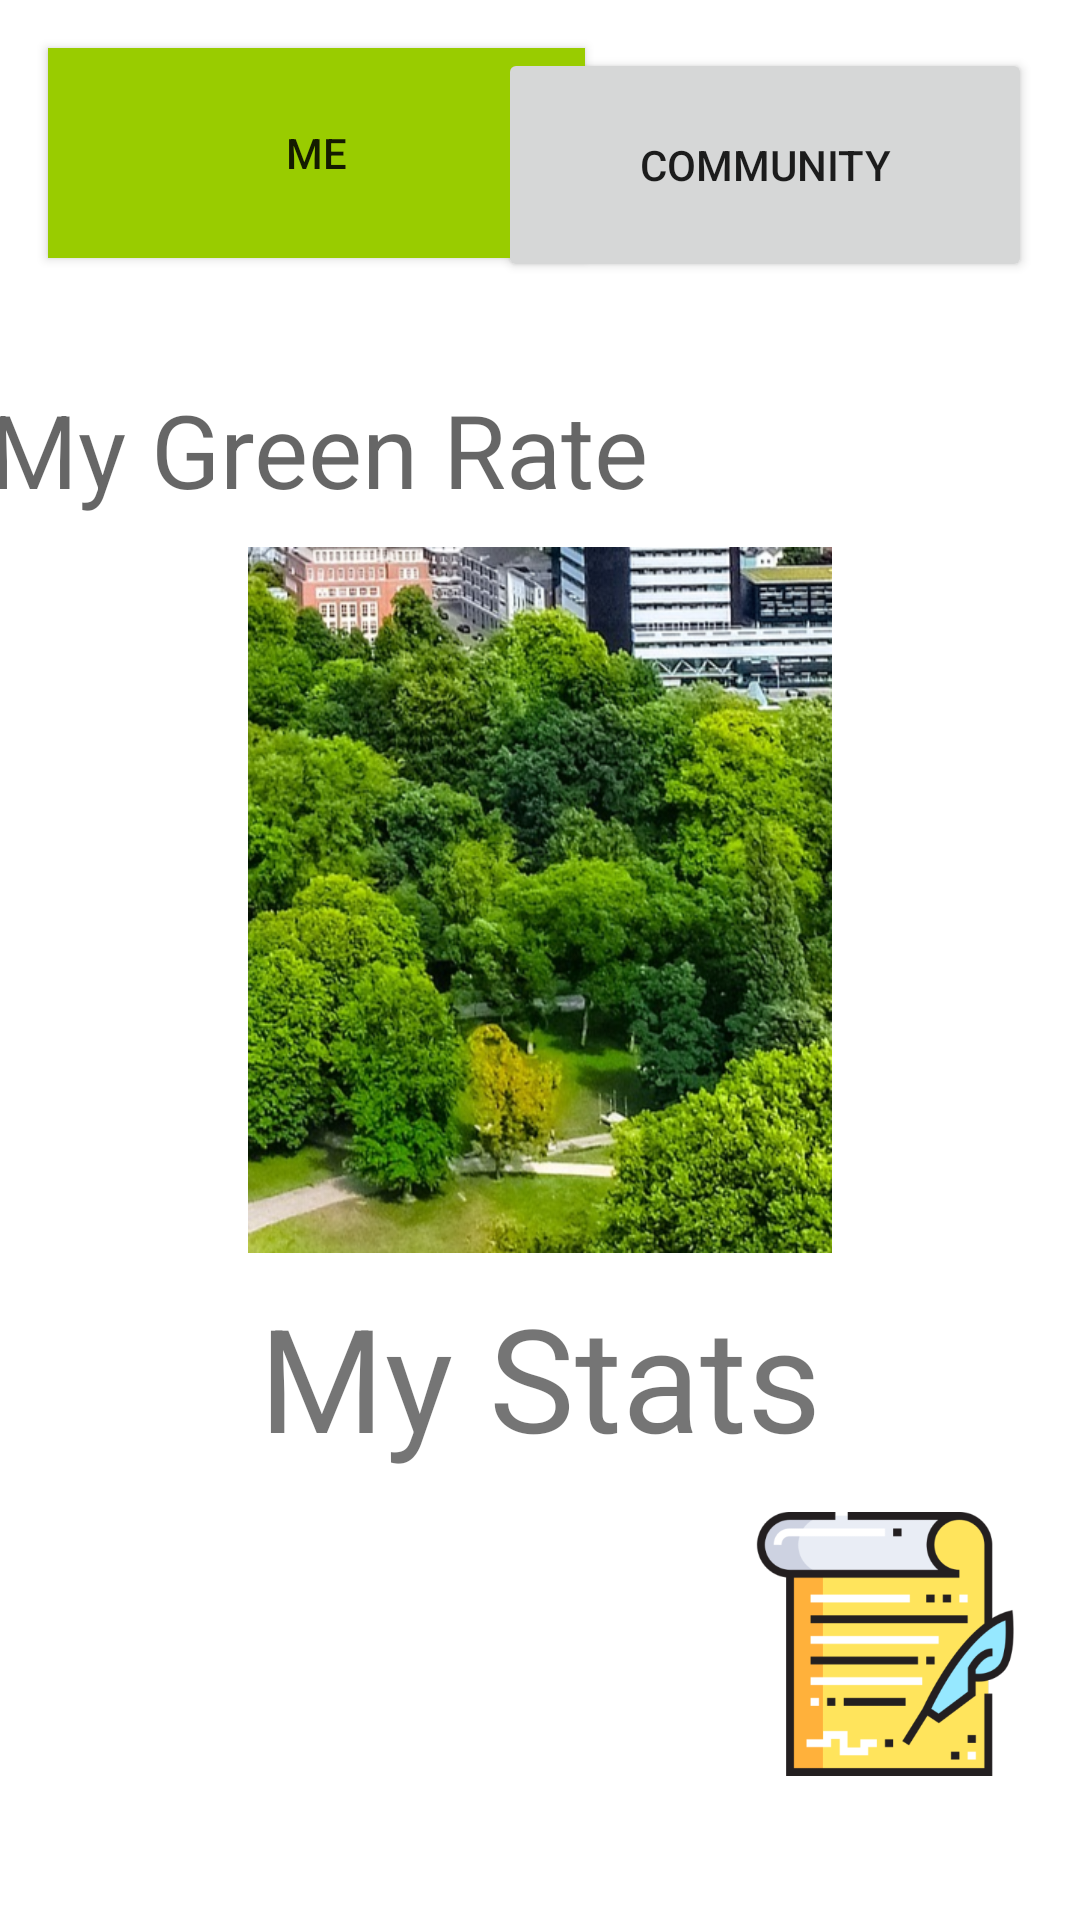

Icon click points for this 1080x1920 phone screenshot, format (x=x, y=y):
quest: (x=885, y=1644)
